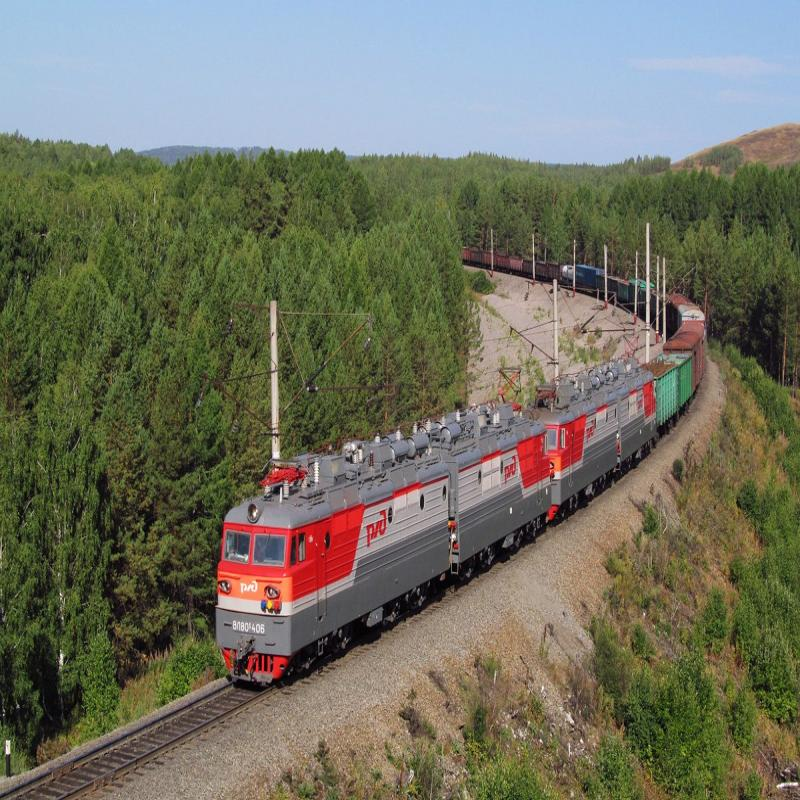train: (209, 402, 451, 690), (440, 362, 559, 615), (540, 334, 656, 543)
